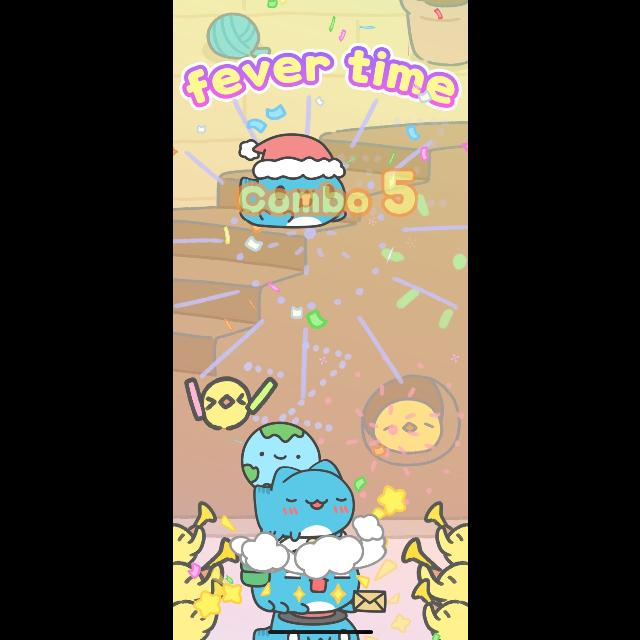capoo: (242, 424, 358, 540), (242, 540, 388, 616), (237, 130, 349, 226)
